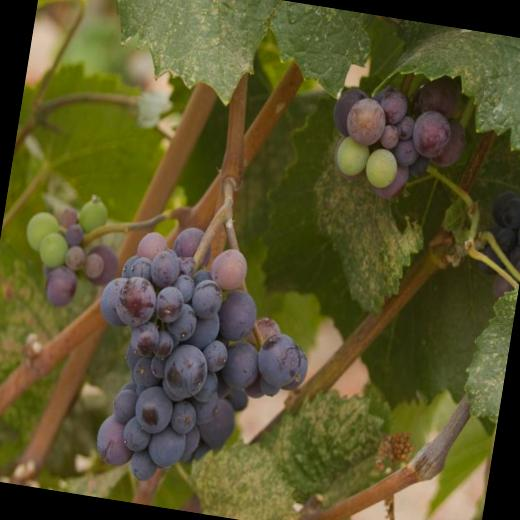Orange: (71, 214, 327, 506), (322, 61, 479, 210), (14, 187, 130, 317), (468, 189, 520, 298)
